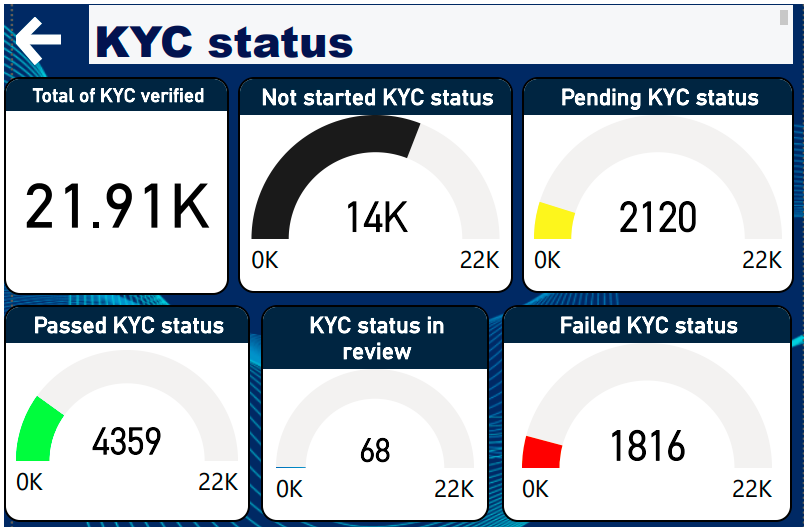

Layout of this report page (visuals, bound fields, positions):
{"tool":"powerbi","page":{"name":"KYC status","canvas":[794,521],"ordinal":2},"visuals":[{"type":"gauge","title":"Passed KYC status","fields":{"Y":["Sum(Users_Table1 - Users_Table.completed_KYC)"],"MaxValue":["CountNonNull(Users_Table1 - Users_Table.IsKYCVerified)"]},"box":[0,300,245.8,216.7],"z":0},{"type":"card","title":"Total of KYC verified","fields":{"Values":["CountNonNull(Users_Table1 - Users_Table.IsKYCVerified)"]},"box":[0,71.9,225,217.7],"z":1000},{"type":"gauge","title":"Failed KYC status","fields":{"Y":["Sum(Users_Table1 - Users_Table.KYC noted status)"],"MaxValue":["CountNonNull(Users_Table1 - Users_Table.IsKYCVerified)"]},"box":[497.9,300,289.6,216.7],"z":2000},{"type":"gauge","title":"Not started KYC status","fields":{"Y":["Sum(Users_Table1 - Users_Table.not_started KYC)"],"MaxValue":["CountNonNull(Users_Table1 - Users_Table.IsKYCVerified)"]},"box":[234.4,71.9,275,215.6],"z":3000},{"type":"gauge","title":"KYC status in review","fields":{"Y":["Sum(Users_Table1 - Users_Table.In_review_KYC)"],"MaxValue":["CountNonNull(Users_Table1 - Users_Table.IsKYCVerified)"]},"box":[257.3,300,228.1,216.7],"z":4000},{"type":"gauge","title":"Pending KYC status","fields":{"Y":["Sum(Users_Table1 - Users_Table.pending_KYC)"],"MaxValue":["CountNonNull(Users_Table1 - Users_Table.IsKYCVerified)"]},"box":[517.7,71.9,271.9,215.6],"z":5000},{"type":"textbox","box":[84.5,0,704.5,59.1],"z":7000},{"type":"actionButton","box":[0,0,84.5,71.8],"z":8000}]}

Visuals, with their boxes in screenshot pixels (x1, y1, x2, y2), scaled from the page's 794x521 canvas onto the 809x527 screenshot:
"Passed KYC status" gauge: l=0, t=303, r=250, b=523
"Total of KYC verified" card: l=0, t=73, r=229, b=293
"Failed KYC status" gauge: l=507, t=303, r=802, b=523
"Not started KYC status" gauge: l=239, t=73, r=519, b=291
"KYC status in review" gauge: l=262, t=303, r=495, b=523
"Pending KYC status" gauge: l=527, t=73, r=805, b=291
textbox: l=86, t=0, r=804, b=60
actionButton: l=0, t=0, r=86, b=73
